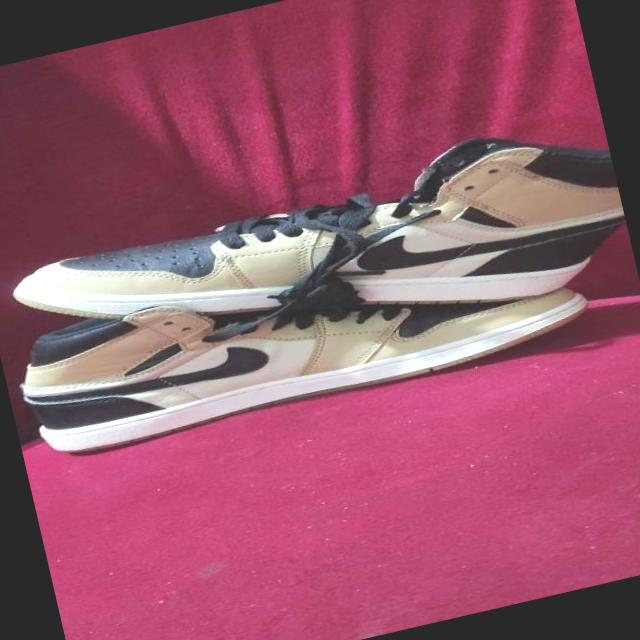nike_fake_jordan: (0, 107, 638, 414), (3, 184, 600, 464)
